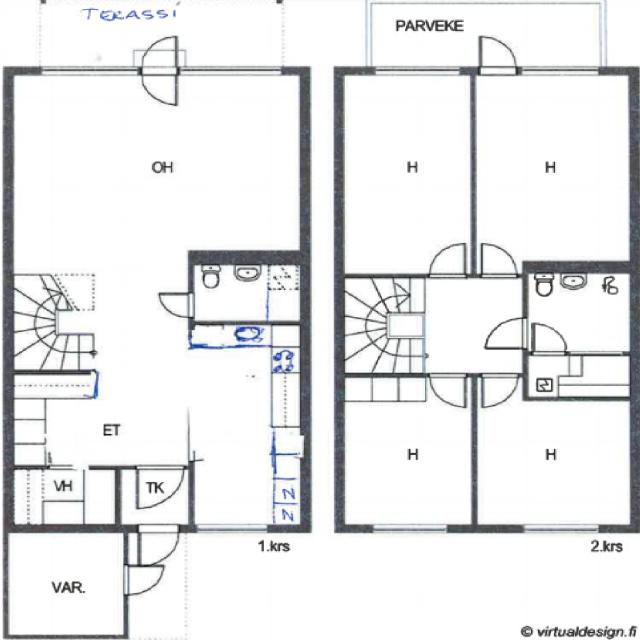door: (136, 465, 184, 511), (138, 523, 178, 567), (480, 34, 516, 75), (429, 240, 467, 278), (481, 240, 519, 278), (486, 317, 529, 350), (142, 66, 177, 105), (142, 36, 177, 75), (481, 374, 518, 410), (429, 374, 466, 410), (532, 321, 566, 356), (122, 565, 162, 594), (160, 292, 193, 317)
